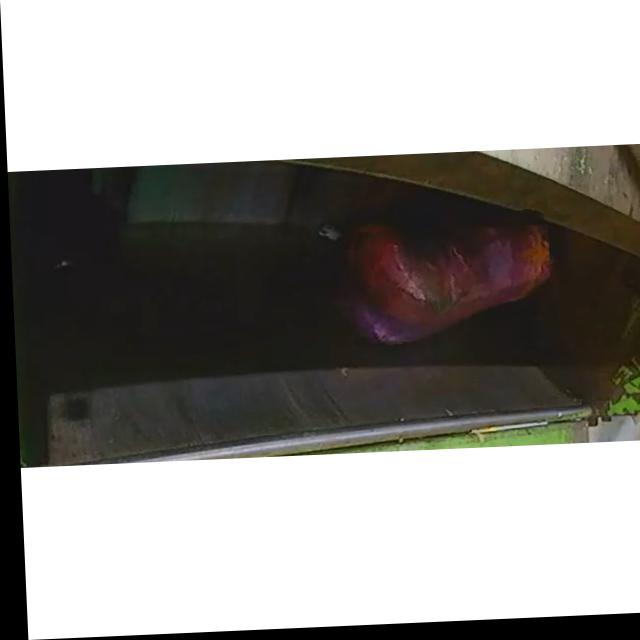other_trashbag: (350, 229, 547, 347)
